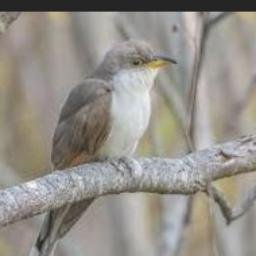Cuckoo: (18, 40, 179, 256)
